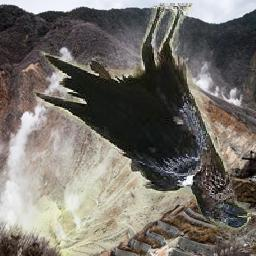Crow: (33, 4, 251, 231)
